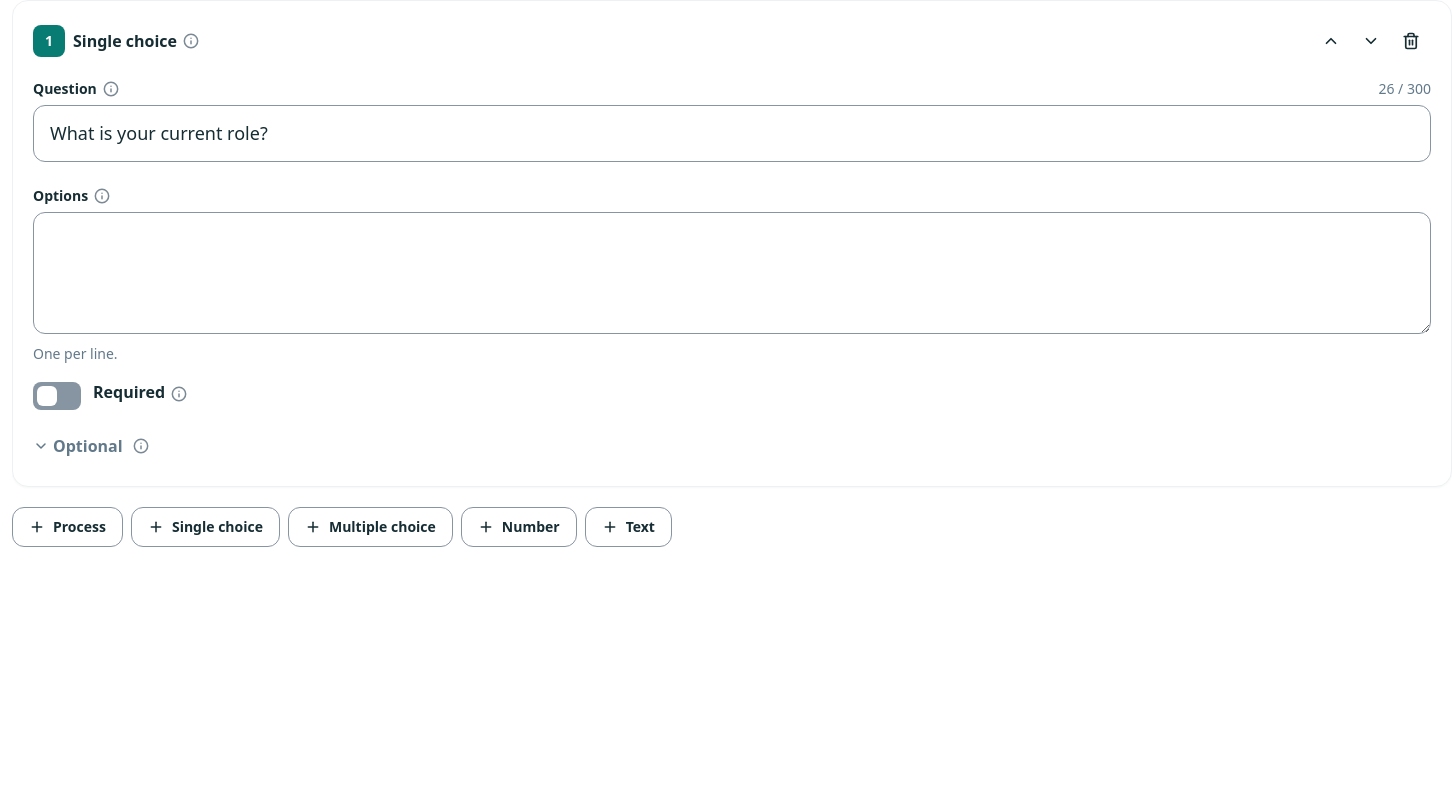
Test case: QuestionBuilder: question, field label and hint › the preview line shows what participants see and what the presentation shows, and follows typing
The image size is (1452, 810).
Click the button with test id "builder-optional-toggle": (78, 446) [29,426,127,466]
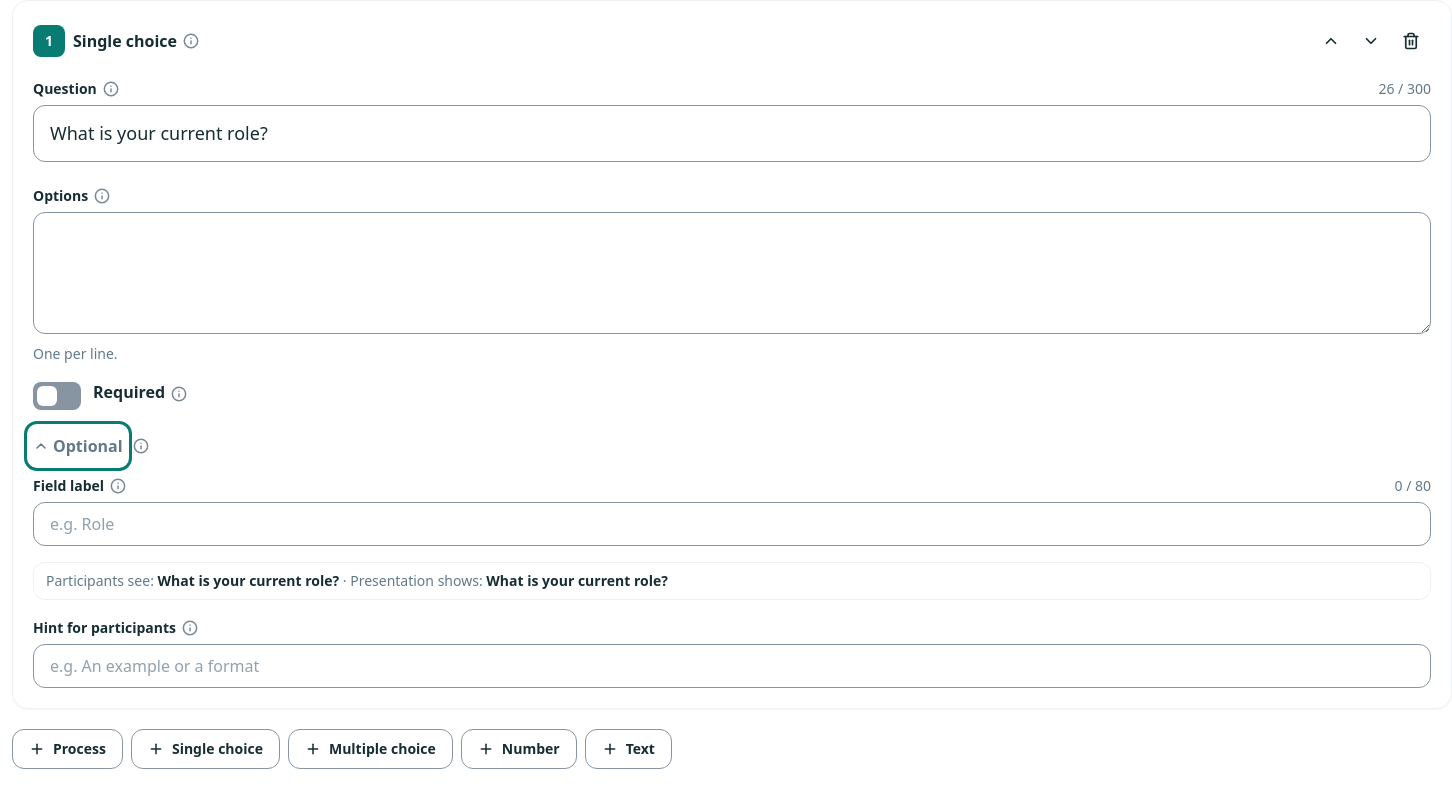
Result: the text with test id "preview-participants" reads "What is your current role?" at [158,571,339,590]
Result: the text with test id "preview-presentation" reads "What is your current role?" at [486,571,668,590]
In the field with test id "builder-label": (732, 524) [33,502,1431,546], type "Role"
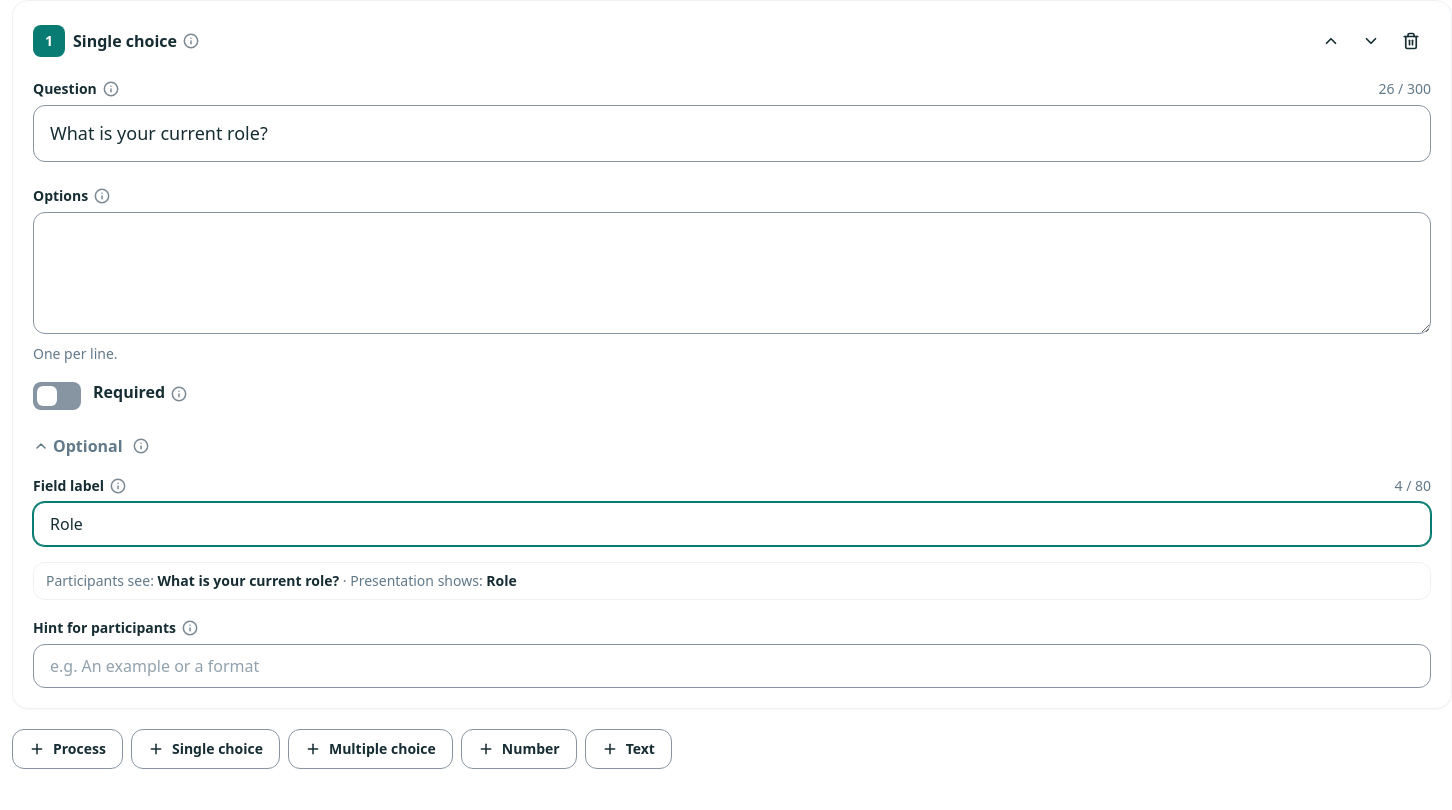
Result: the text with test id "preview-participants" reads "What is your current role?" at [158,571,339,590]
Result: the text with test id "preview-presentation" reads "Role" at [486,571,517,590]
Result: the element with test id "builder-preview" reads "Participants see: What is your current role? · Presentation shows: Role" at [33,562,1431,600]
